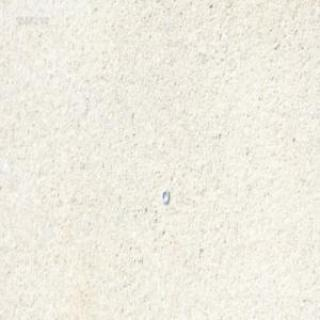Washertrack_idkeyframe: (160, 188, 168, 204)
